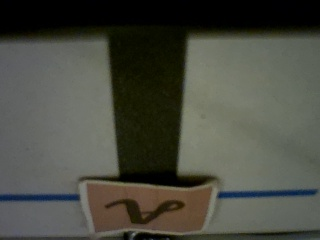A: (88, 184, 207, 233)
